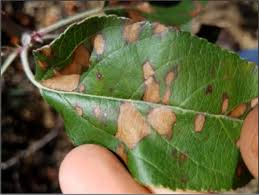Diseased_Leaves: (38, 47, 125, 96), (132, 54, 196, 103), (117, 16, 170, 41), (120, 105, 147, 145), (186, 109, 220, 134), (152, 111, 172, 128)
